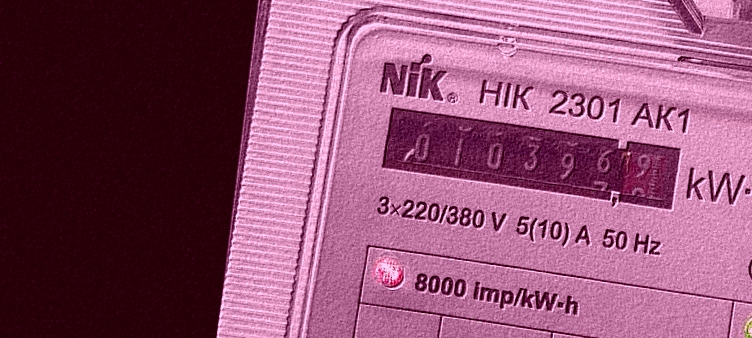0: (482, 138, 508, 173), (409, 129, 433, 164)
1: (450, 134, 467, 168)
3: (521, 141, 543, 176)
6: (592, 145, 617, 177)
9: (554, 149, 578, 184), (630, 151, 654, 183)
screen: (365, 93, 693, 226)
